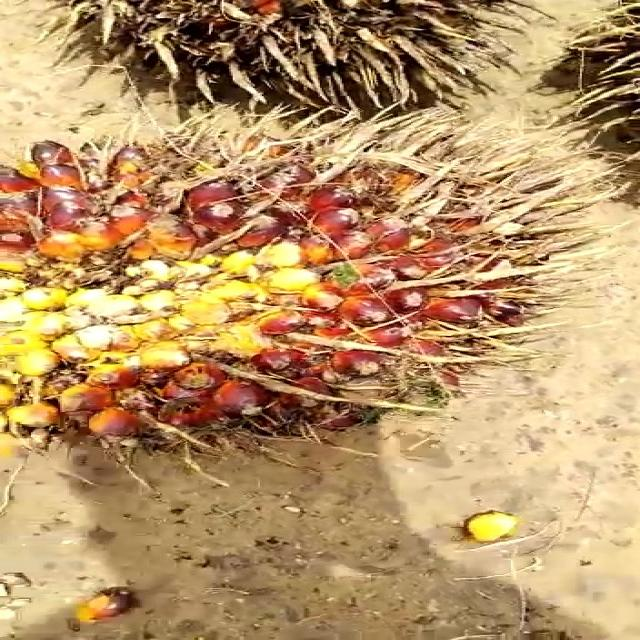palm oil: (0, 109, 578, 456)
